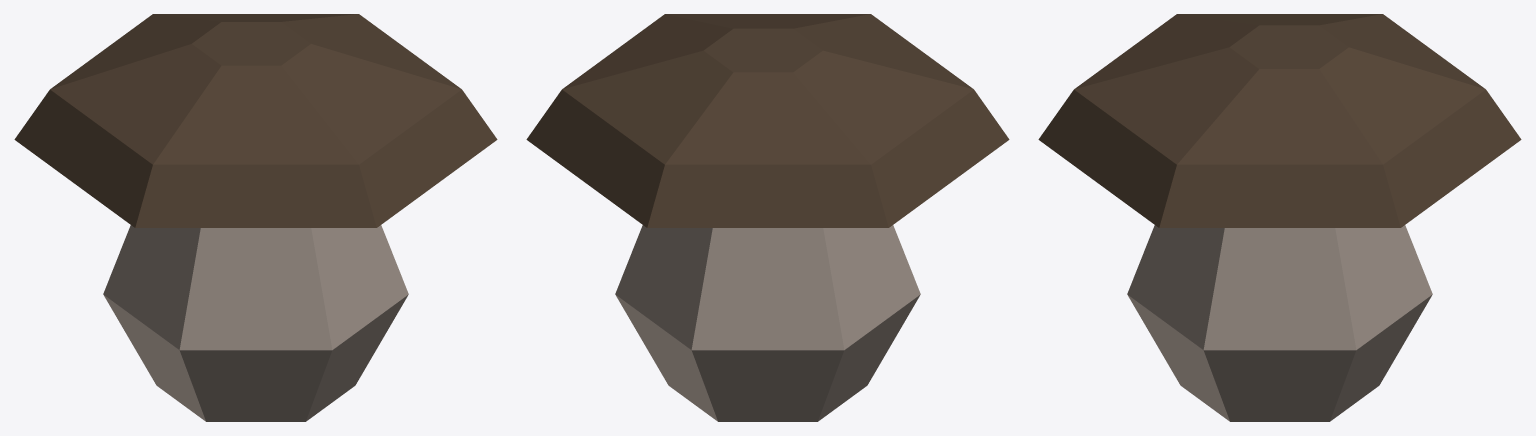
The model's file is Mushroom3_v01.fbx.
3 renders of one model, left to right at view 1: azimuth 30°, elevation 25°; view 2: azimuth 150°, elevation 25°; view 3: azimuth 270°, elevation 25°, orthographic.
Visible parts, largest first — view 1: Cylinder.001; view 2: Cylinder.001; view 3: Cylinder.001.
Part boxes in pixels (<box>): Cylinder.001: <box>14,14,497,421</box>; Cylinder.001: <box>526,14,1009,421</box>; Cylinder.001: <box>1038,14,1521,421</box>.
Size of the model in its own units: 52.64 by 46.96 by 60.78.
